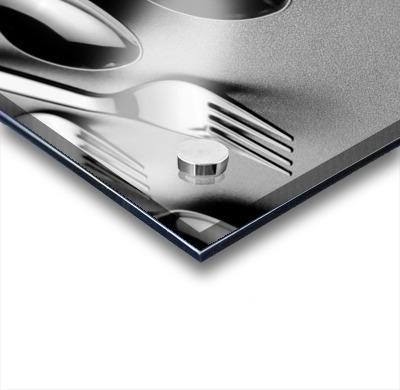Fork: (0, 66, 295, 176)
Spoon: (0, 0, 142, 72)
